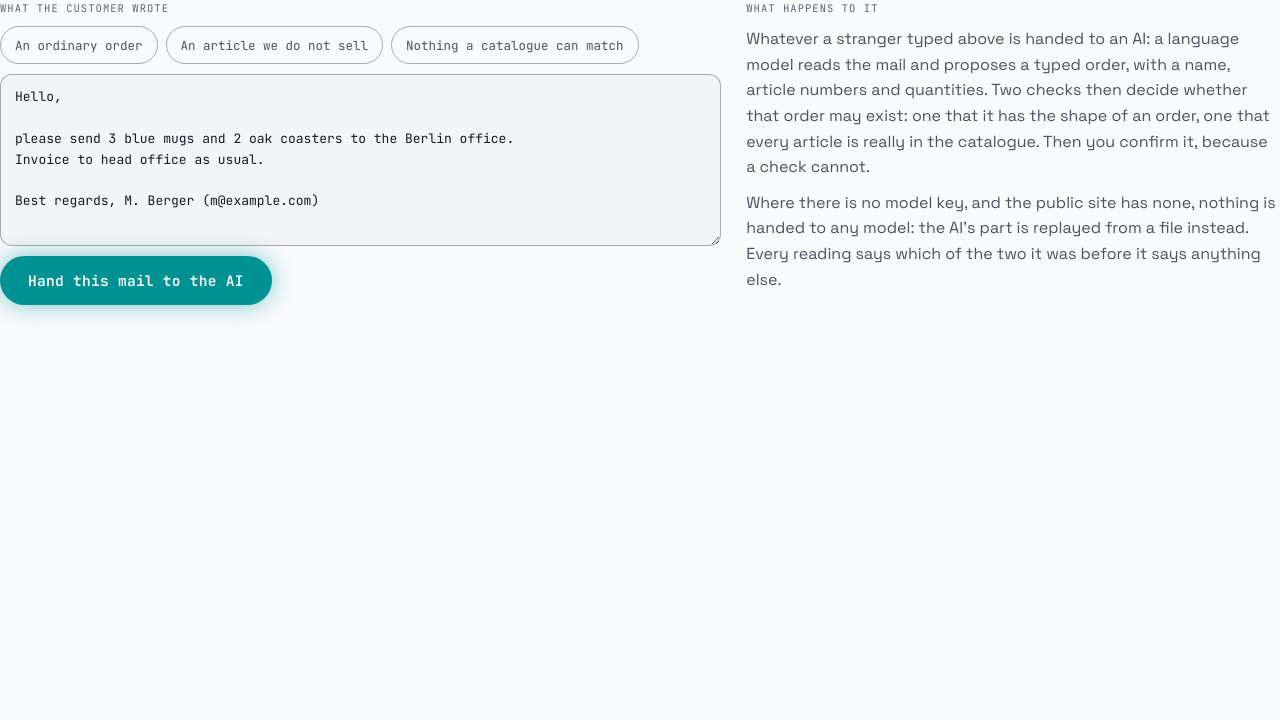
MailOrder › draws a refusal and offers nothing to place
Click the button with test id "sample-invented".
click(274, 45)  # box [166,26,383,64]
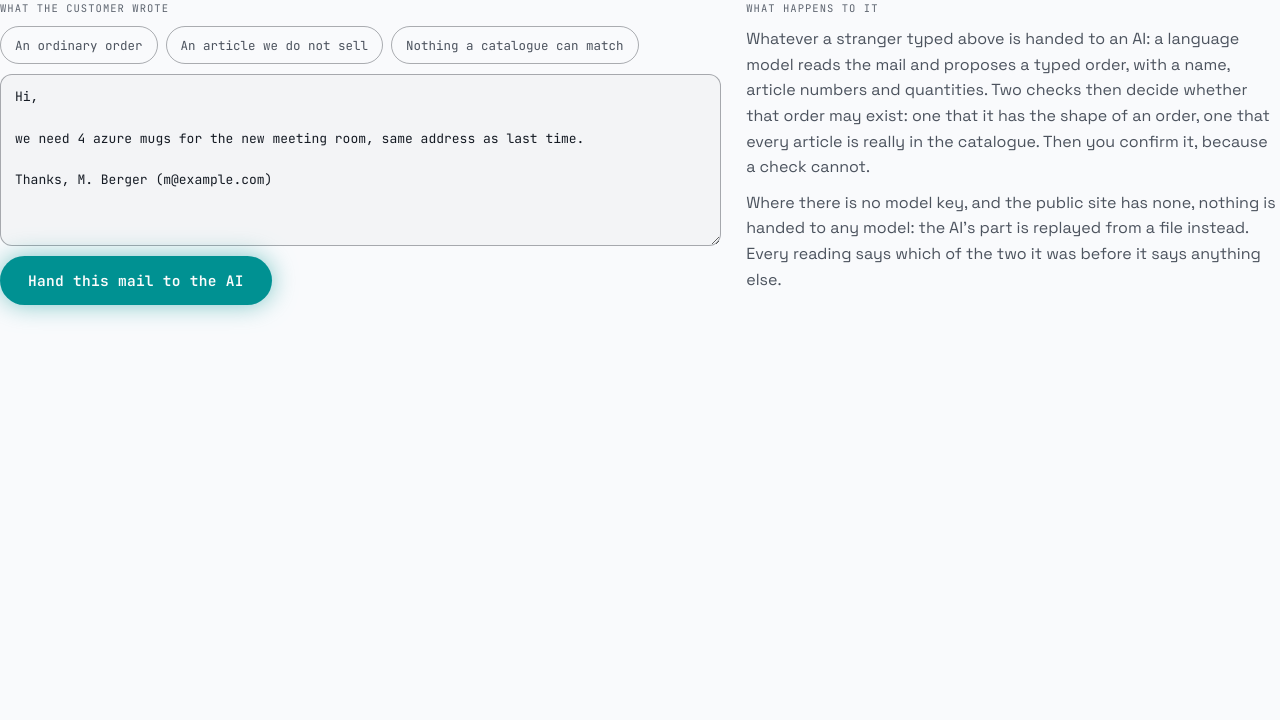
Click the button with test id "read-mail".
click(136, 280)  # box [0,256,272,305]
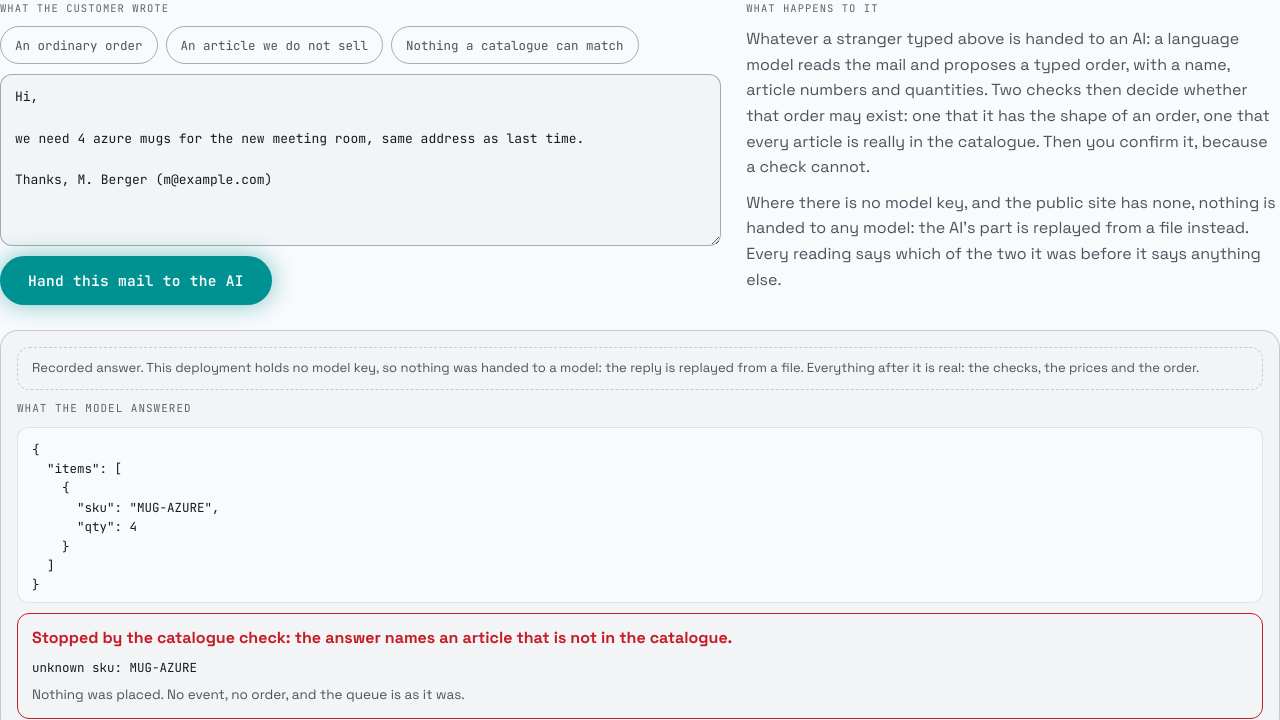
Expected: the element with test id "mail-stopped" shows "MUG-AZURE", [32,659,197,676]
